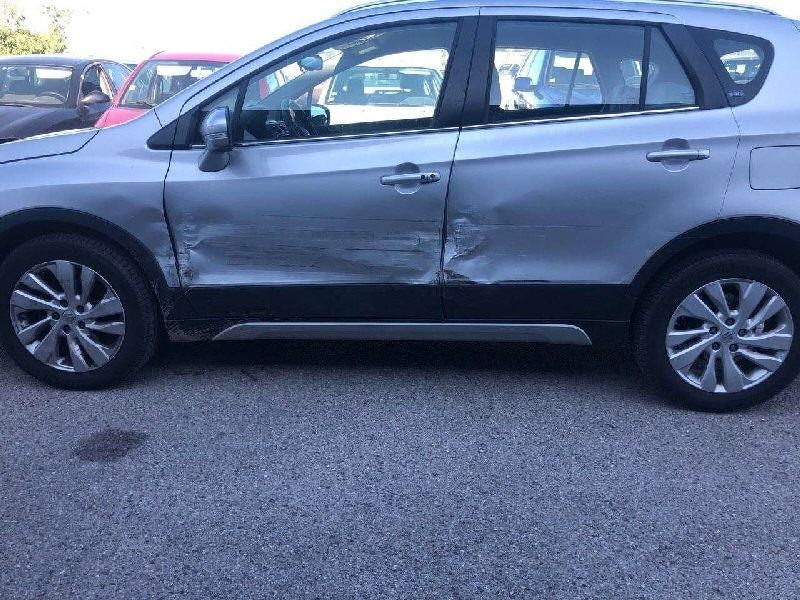front door: (125, 2, 486, 362)
